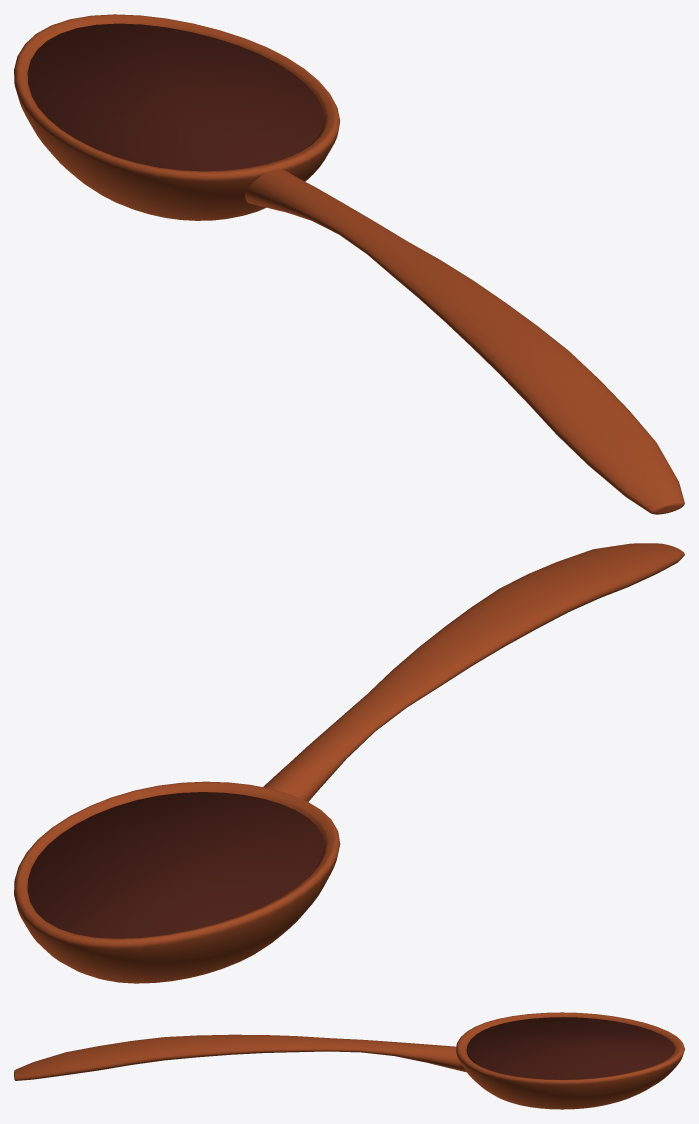
Rendered from Spoon_1.fbx.
The picture shows the model from 3 angles, top to bottom: view 1: azimuth 30°, elevation 25°; view 2: azimuth 150°, elevation 25°; view 3: azimuth 270°, elevation 25°; orthographic projection. The views are drawn at different scales.
Parts seen in each view (by area): view 1: Spoon, Honey.060; view 2: Spoon, Honey.060; view 3: Spoon, Honey.060.
Part boxes in pixels (x1,y1,x2,y2): Spoon: (14, 14, 684, 514); Honey.060: (27, 23, 324, 171); Spoon: (14, 543, 684, 983); Honey.060: (27, 792, 324, 938); Spoon: (14, 1012, 684, 1109); Honey.060: (466, 1017, 675, 1079).
Size of the model in its own units: 104 by 39.4 by 425.
